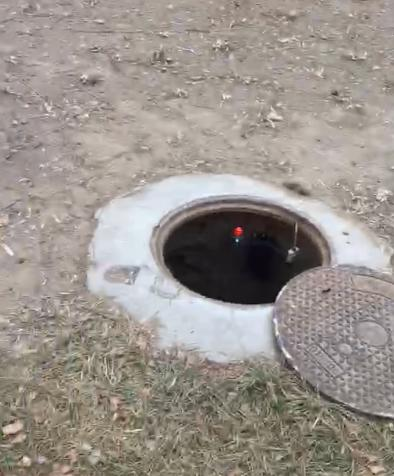wellcover: (123, 156, 394, 433)
